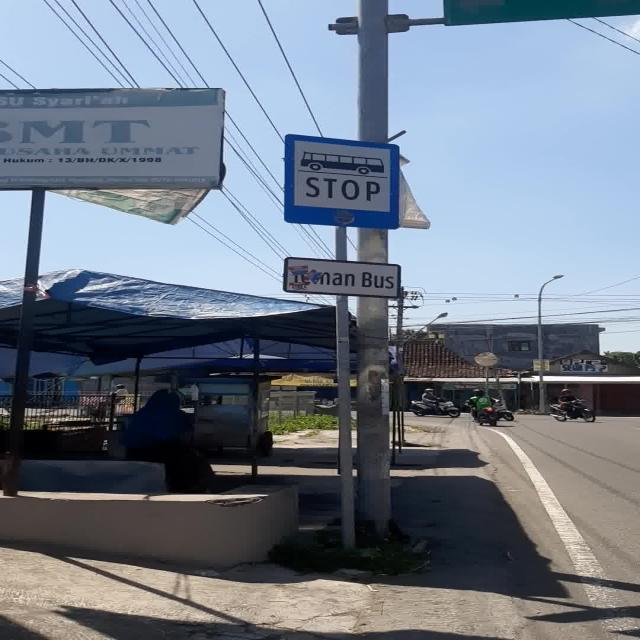Pemberhentian Bus: (283, 133, 400, 230)
